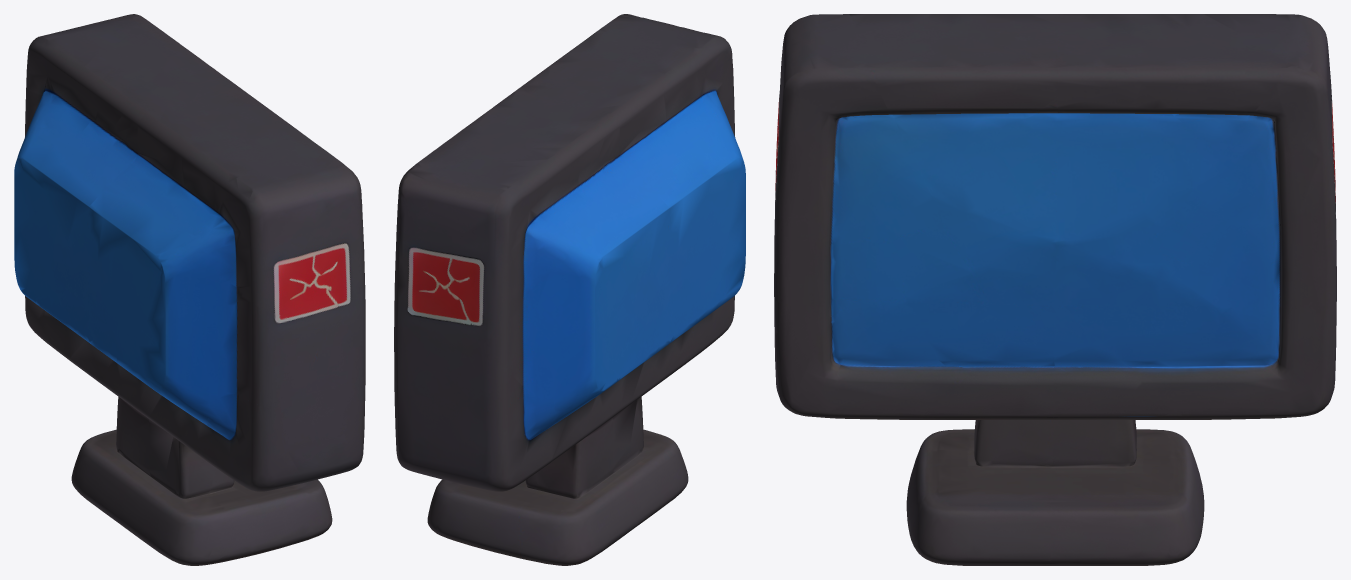
File: monitor.glb
3 views of the same model, side by side, from view 1: azimuth 30°, elevation 25°; view 2: azimuth 150°, elevation 25°; view 3: azimuth 270°, elevation 25° (orthographic). The views are drawn at different scales.
Parts seen in each view (by area): view 1: tripo_node_672b42d7-f555-4543-9d88-352cefb03785; view 2: tripo_node_672b42d7-f555-4543-9d88-352cefb03785; view 3: tripo_node_672b42d7-f555-4543-9d88-352cefb03785.
Part boxes in pixels (x1,y1,x2,y2): tripo_node_672b42d7-f555-4543-9d88-352cefb03785: [14, 14, 365, 565]; tripo_node_672b42d7-f555-4543-9d88-352cefb03785: [394, 14, 745, 565]; tripo_node_672b42d7-f555-4543-9d88-352cefb03785: [774, 14, 1336, 565].
Size of the model in its own units: 0.4671 by 0.9394 by 0.9999.
1 material, 1 textured.
